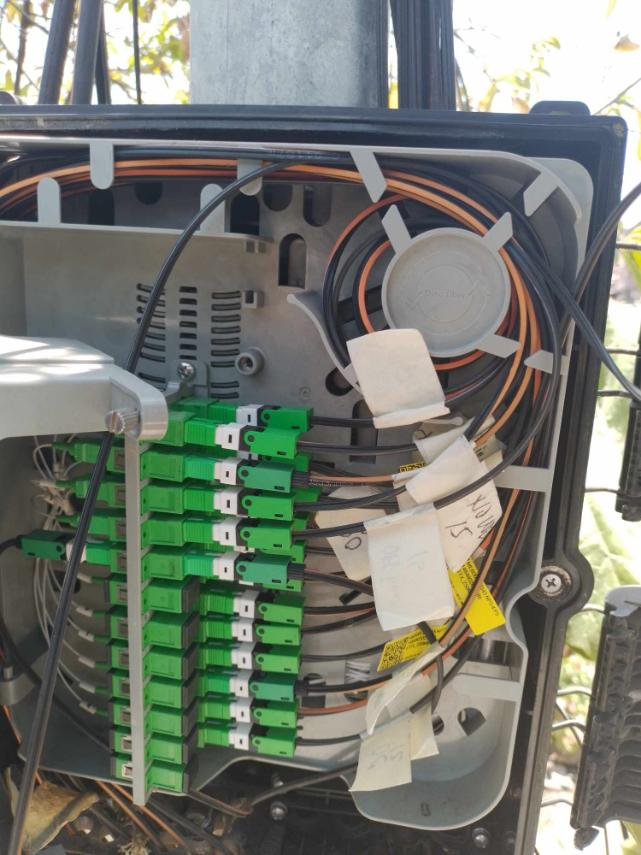occupied: (186, 456, 326, 502), (185, 418, 314, 462), (183, 488, 311, 525), (220, 438, 323, 481), (204, 561, 319, 599), (184, 519, 309, 553), (208, 591, 315, 630), (218, 506, 321, 545), (185, 559, 319, 588), (228, 479, 332, 514), (206, 728, 308, 762), (207, 701, 318, 732), (209, 674, 316, 704), (218, 535, 314, 568), (208, 404, 318, 432), (208, 649, 314, 678), (204, 623, 309, 649)
vacant: (185, 577, 201, 614), (185, 613, 200, 651), (185, 642, 199, 682), (184, 701, 198, 741), (184, 729, 198, 766), (184, 673, 197, 712), (189, 758, 199, 793)
